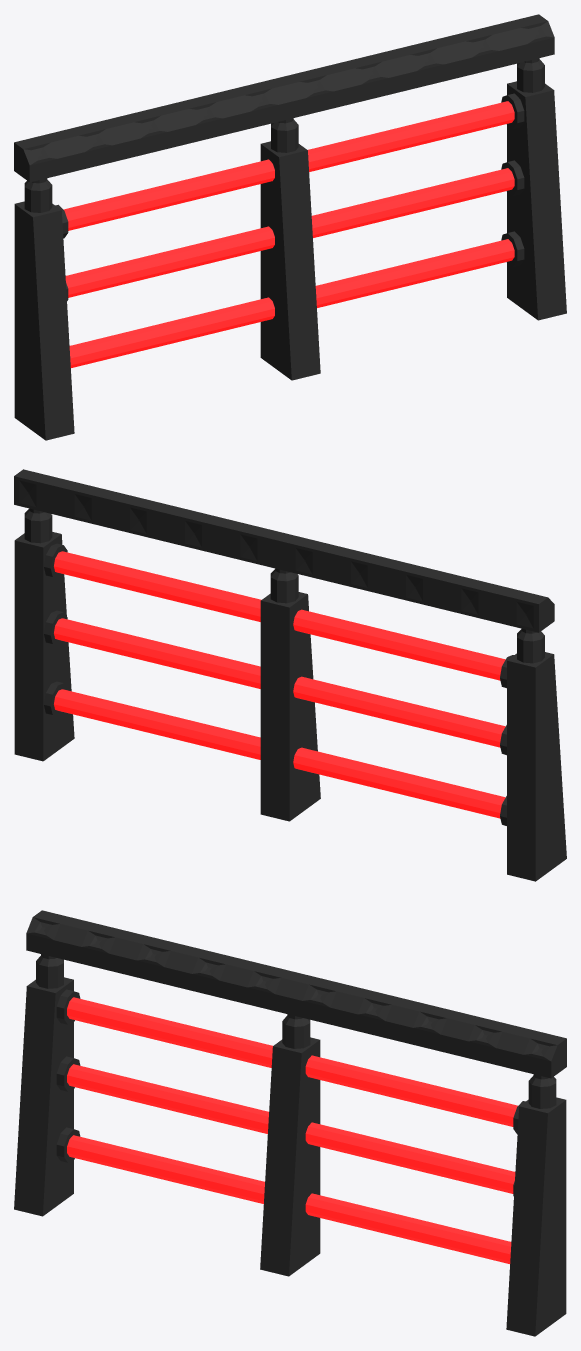
File: LazerFence4new.fbx
3 views of the same model, one above another, from view 1: azimuth 30°, elevation 25°; view 2: azimuth 150°, elevation 25°; view 3: azimuth 330°, elevation 25° (orthographic).
Parts seen in each view (by area): view 1: Cube.002, Cube.004, Cube.001, Cube.003, Cylinder, Cylinder.006, Cylinder.001, Cylinder.011, Cylinder.009, Cylinder.010; view 2: Cube.002, Cube.004, Cube.001, Cube.003, Cylinder, Cylinder.001, Cylinder.006, Cylinder.010, Cylinder.009, Cylinder.011; view 3: Cube.002, Cube.003, Cube.001, Cube.004, Cylinder, Cylinder.006, Cylinder.001, Cylinder.009, Cylinder.010, Cylinder.011.
Part boxes in pixels (bbox=[...]): Cube.002: bbox=[14, 14, 554, 182]; Cube.004: bbox=[14, 201, 74, 440]; Cube.001: bbox=[260, 141, 320, 380]; Cube.003: bbox=[507, 81, 566, 320]; Cylinder: bbox=[63, 101, 514, 230]; Cylinder.006: bbox=[65, 168, 514, 297]; Cylinder.001: bbox=[69, 239, 514, 367]; Cylinder.011: bbox=[24, 178, 52, 212]; Cylinder.009: bbox=[517, 58, 544, 92]; Cylinder.010: bbox=[271, 118, 298, 152]; Cube.002: bbox=[14, 469, 554, 632]; Cube.004: bbox=[507, 652, 566, 881]; Cube.001: bbox=[260, 592, 320, 821]; Cube.003: bbox=[14, 532, 74, 761]; Cylinder: bbox=[54, 551, 505, 680]; Cylinder.001: bbox=[54, 689, 505, 818]; Cylinder.006: bbox=[54, 618, 505, 747]; Cylinder.010: bbox=[270, 568, 298, 603]; Cylinder.009: bbox=[24, 508, 52, 543]; Cylinder.011: bbox=[517, 629, 544, 663]; Cube.002: bbox=[26, 910, 566, 1078]; Cube.003: bbox=[506, 1097, 566, 1336]; Cube.001: bbox=[260, 1037, 320, 1276]; Cube.004: bbox=[14, 977, 73, 1216]; Cylinder: bbox=[67, 997, 517, 1126]; Cylinder.006: bbox=[67, 1064, 515, 1193]; Cylinder.001: bbox=[67, 1135, 511, 1263]; Cylinder.009: bbox=[528, 1074, 556, 1108]; Cylinder.010: bbox=[282, 1014, 310, 1048]; Cylinder.011: bbox=[36, 954, 63, 988].
Size of the model in its own units: 2.01 by 1.01 by 0.2071.
